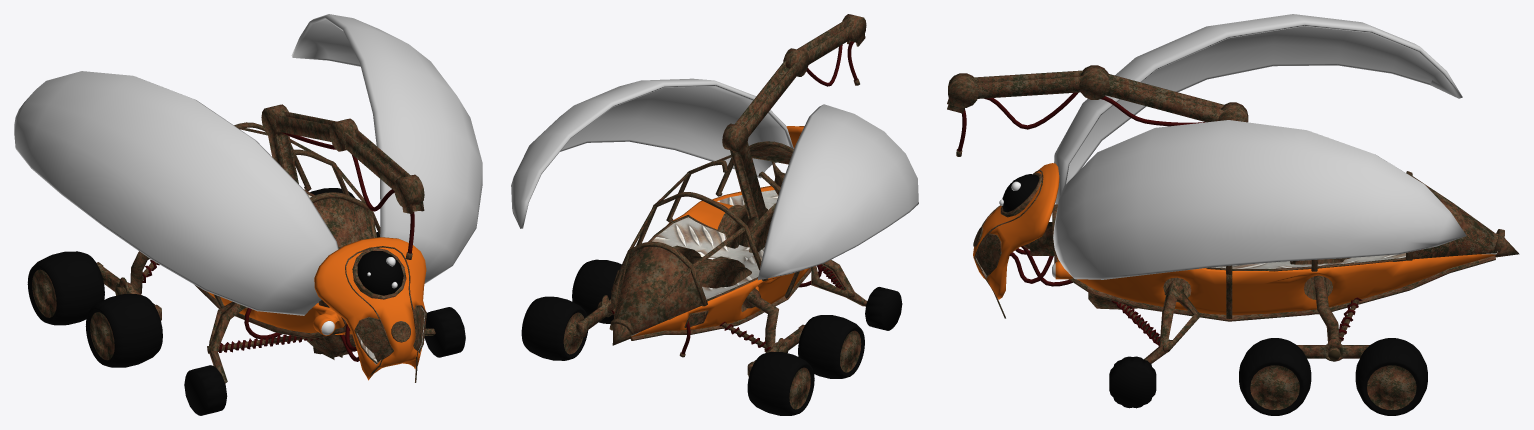
File: rover.obj
3 views of the same model, side by side, from view 1: azimuth 30°, elevation 25°; view 2: azimuth 150°, elevation 25°; view 3: azimuth 270°, elevation 25° (orthographic). The views are drawn at different scales.
Visible parts, largest first — view 1: wings, body, Sphere002, Sphere001, tire_01, Cylinder006, Shape002, Cylinder005, Sphere004, face_grill, bumperbar_01, leg_00 (+11 smaller); view 2: wings, body, Sphere002, Sphere001, rear_top_grill, bumperbar_01, Cylinder005, Cylinder003, Cylinder006, Line003, Cylinder002, tire_01 (+8 smaller); view 3: wings, body, Sphere001, Sphere002, Cylinder006, Cylinder005, bumperbar_02, tire_01, rear_top_grill, leg_00, red_hoses, Object003 (+10 smaller).
Part boxes in pixels (left/top/right/bottom): wings: left=14, top=14, right=482, bottom=315; body: left=208, top=194, right=426, bottom=380; Sphere002: left=27, top=188, right=355, bottom=325; Sphere001: left=85, top=232, right=379, bottom=367; tire_01: left=184, top=307, right=465, bottom=415; Cylinder006: left=329, top=118, right=410, bottom=190; Shape002: left=313, top=198, right=373, bottom=248; Cylinder005: left=261, top=104, right=336, bottom=141; Sphere004: left=357, top=251, right=403, bottom=295; face_grill: left=356, top=306, right=424, bottom=362; bumperbar_01: left=234, top=122, right=380, bottom=235; leg_00: left=207, top=301, right=435, bottom=383; wings: left=511, top=78, right=918, bottom=280; body: left=631, top=126, right=809, bottom=337; Sphere002: left=521, top=296, right=814, bottom=415; Sphere001: left=572, top=259, right=864, bottom=378; rear_top_grill: left=612, top=247, right=701, bottom=335; bumperbar_01: left=609, top=141, right=793, bottom=335; Cylinder005: left=722, top=61, right=796, bottom=152; Cylinder003: left=673, top=245, right=755, bottom=328; Cylinder006: left=783, top=21, right=853, bottom=76; Line003: left=730, top=142, right=766, bottom=220; Cylinder002: left=717, top=204, right=773, bottom=252; tire_01: left=865, top=287, right=902, bottom=330; wings: left=1053, top=14, right=1466, bottom=279; body: left=973, top=163, right=1497, bottom=315; Sphere001: left=1239, top=338, right=1311, bottom=415; Sphere002: left=1355, top=338, right=1427, bottom=415; Cylinder006: left=973, top=65, right=1109, bottom=99; Cylinder005: left=1106, top=74, right=1248, bottom=122; bumperbar_02: left=1054, top=251, right=1495, bottom=321; tire_01: left=1109, top=356, right=1156, bottom=408; rear_top_grill: left=1412, top=176, right=1497, bottom=259; leg_00: left=1144, top=279, right=1200, bottom=363; red_hoses: left=1009, top=96, right=1205, bottom=286; Object003: left=947, top=73, right=978, bottom=113.
Size of the model in its own units: 8.33 by 5.67 by 10.63.
